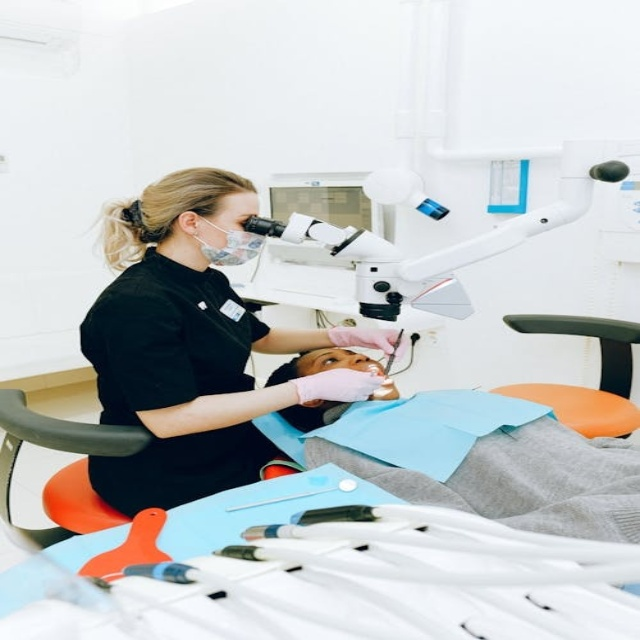Guantes: (288, 364, 378, 404), (321, 318, 401, 355)
Mascara: (194, 215, 268, 266)
Sin_gafas: (294, 349, 356, 373)
